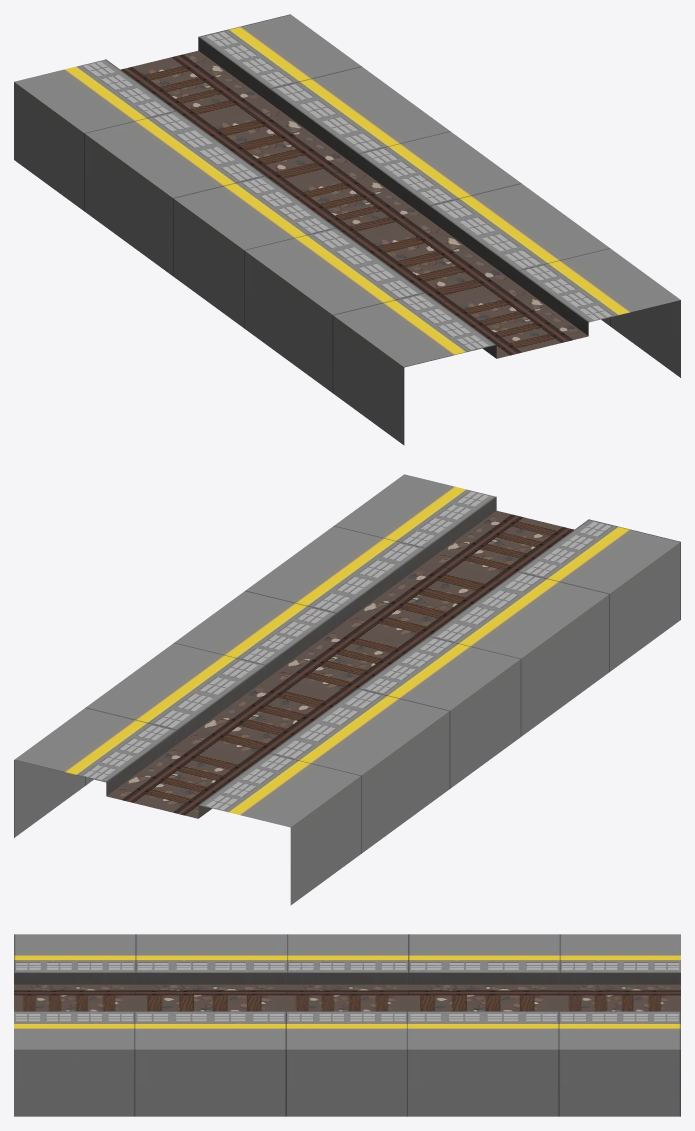
File: city_train_track.glb
3 views of the same model, one above another, from view 1: azimuth 30°, elevation 25°; view 2: azimuth 150°, elevation 25°; view 3: azimuth 270°, elevation 25° (orthographic). The views are drawn at different scales.
Parts seen in each view (by area): view 1: train_track; view 2: train_track; view 3: train_track.
Part boxes in pixels (x1,y1,x2,y2): train_track: [14, 14, 680, 445]; train_track: [14, 474, 680, 905]; train_track: [14, 934, 680, 1116].
Bounding box in the file's own units: 9 × 2.43 × 22.
1 material, 1 textured.
